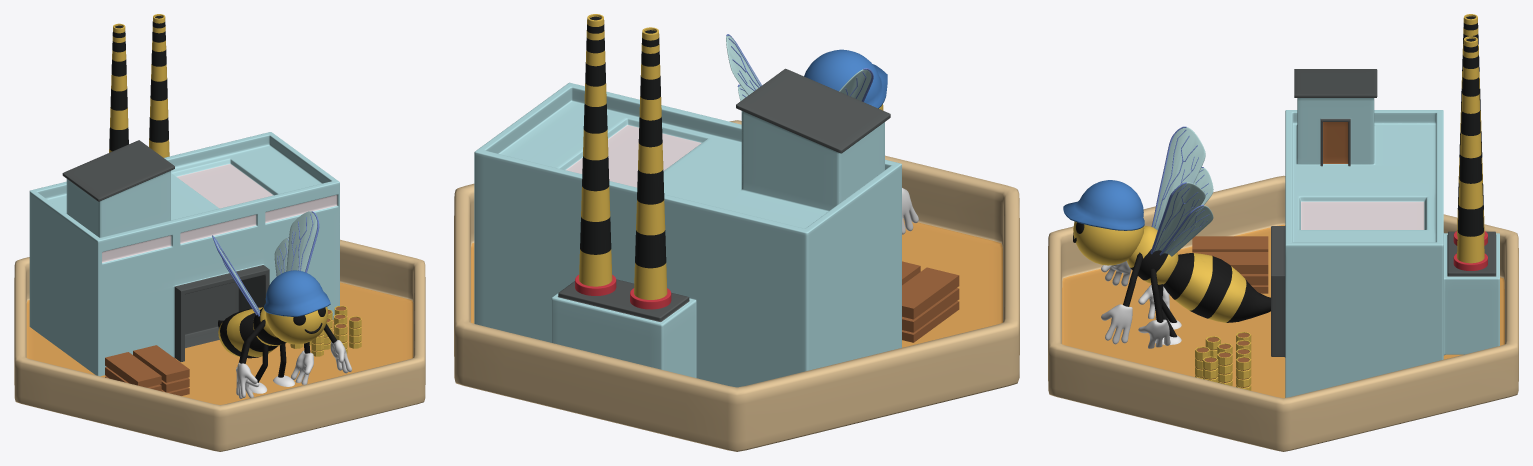
The model's file is Worker Tile.fbx.
3 views of the same model, side by side, from view 1: azimuth 30°, elevation 25°; view 2: azimuth 150°, elevation 25°; view 3: azimuth 270°, elevation 25° (orthographic). The views are drawn at different scales.
Visible parts, largest first — view 1: Cube.038, Worker Tile, Cylinder.012, Sphere.018, Cylinder.017, Plane.014, Cube.045, Cube.039, Cube.041, Cube.044, Cube.042, Cube.043 (+5 smaller); view 2: Cube.038, Worker Tile, Cylinder.012, Cylinder.017, Cube.044, Sphere.018, Plane.014; view 3: Cube.038, Worker Tile, Cube.041, Cylinder.012, Plane.014, Sphere.018, Cube.039, Plane.015, Cube.040, Cube.045, Cube.042, Cube.044 (+4 smaller).
Part boxes in pixels (bbox=[...]): Cube.038: bbox=[29, 132, 339, 376]; Worker Tile: bbox=[14, 239, 425, 451]; Cylinder.012: bbox=[149, 14, 169, 157]; Sphere.018: bbox=[263, 270, 330, 316]; Cylinder.017: bbox=[109, 23, 128, 152]; Plane.014: bbox=[212, 211, 319, 316]; Cube.045: bbox=[133, 345, 189, 395]; Cube.039: bbox=[266, 307, 327, 344]; Cube.041: bbox=[218, 307, 278, 358]; Cube.044: bbox=[105, 352, 161, 391]; Cube.042: bbox=[236, 340, 351, 398]; Cube.043: bbox=[236, 350, 313, 397]; Cube.038: bbox=[474, 68, 901, 387]; Worker Tile: bbox=[454, 120, 1019, 451]; Cylinder.012: bbox=[579, 14, 612, 286]; Cylinder.017: bbox=[634, 27, 667, 299]; Cube.044: bbox=[902, 267, 959, 342]; Sphere.018: bbox=[804, 49, 887, 108]; Plane.014: bbox=[726, 34, 873, 101]; Cube.038: bbox=[1271, 69, 1499, 397]; Worker Tile: bbox=[1048, 175, 1518, 451]; Cube.041: bbox=[1163, 253, 1270, 322]; Cylinder.012: bbox=[1457, 36, 1484, 263]; Plane.014: bbox=[1150, 126, 1205, 254]; Sphere.018: bbox=[1063, 180, 1144, 230]; Cube.039: bbox=[1073, 221, 1144, 265]; Plane.015: bbox=[1159, 167, 1213, 256]; Cube.040: bbox=[1127, 226, 1178, 284]; Cube.045: bbox=[1192, 252, 1268, 293]; Cube.042: bbox=[1101, 261, 1132, 344]; Cube.044: bbox=[1192, 236, 1268, 251].
Size of the model in its own units: 99.54 by 63 by 86.6.
Materials: 3 (3 with a texture image).
